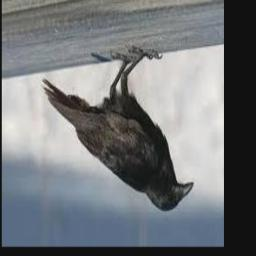Crow: (40, 47, 194, 212)
